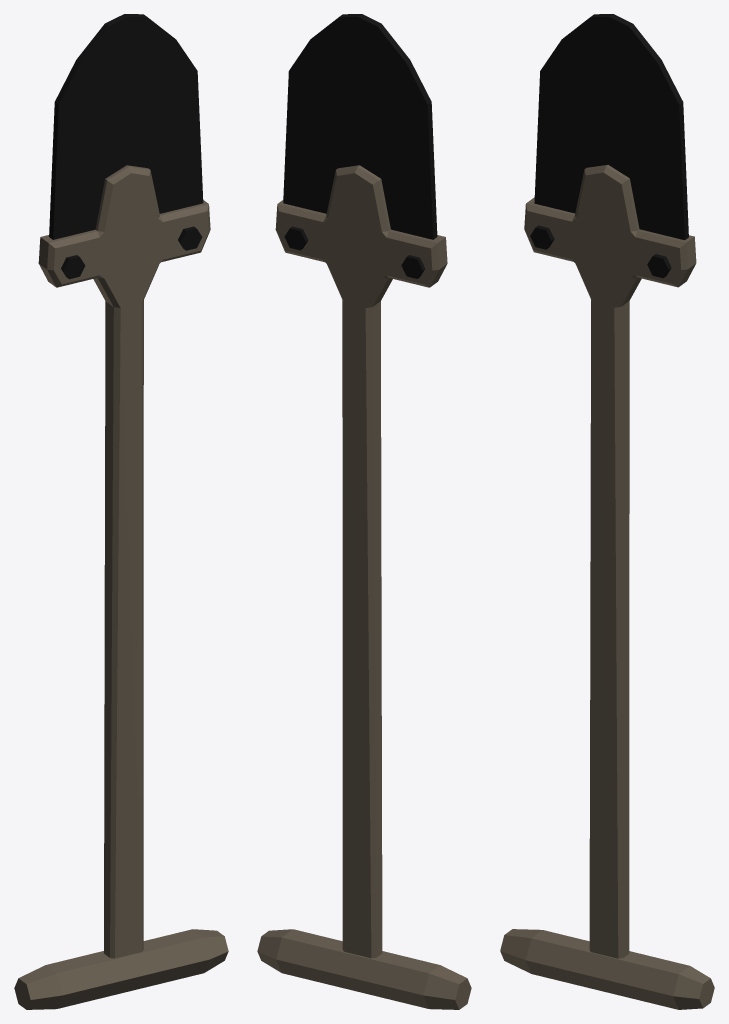
Rendered from Shovel.glb.
3 renders of one model, left to right at view 1: azimuth 30°, elevation 25°; view 2: azimuth 150°, elevation 25°; view 3: azimuth 330°, elevation 25°, orthographic.
Parts seen in each view (by area): view 1: Shovel; view 2: Shovel; view 3: Shovel.
Boxes of the visible parts, x1,y1,x2,y2 form: Shovel: (14, 14, 228, 1009); Shovel: (257, 14, 471, 1009); Shovel: (500, 14, 714, 1009).
Size of the model in its own units: 0.2808 by 1.31 by 0.0558.
1 material, 1 textured.
